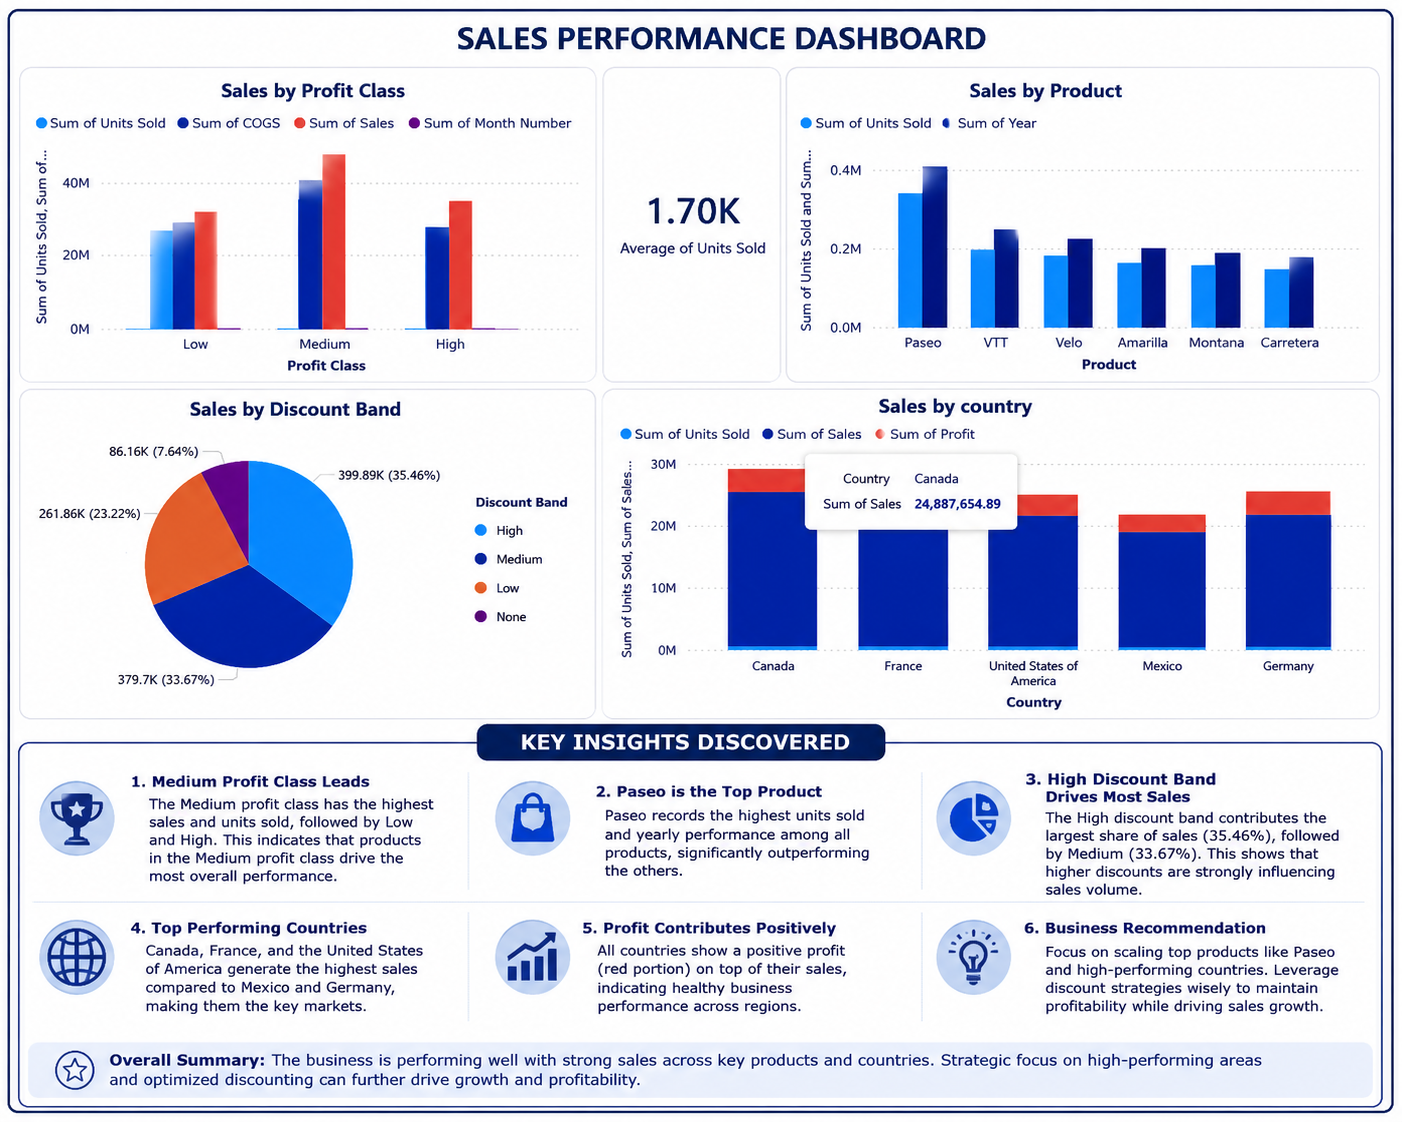

Layout of this report page (visuals, bound fields, positions):
{"tool":"powerbi","page":{"name":"Fanancial","canvas":[1280,720],"ordinal":0},"visuals":[{"type":"card","fields":{"Values":["Avg(financials.Units Sold)"]},"box":[557.7,147.9,134.8,144],"z":1000},{"type":"columnChart","title":"Sales by country","fields":{"Y":["Sum(financials.Units Sold)","Sum(financials. Sales)","Sum(financials.Profit)"],"Category":["financials.Country"]},"box":[586.5,360,662.4,345.6],"z":2000},{"type":"pieChart","title":"Sales by Discount Band","fields":{"Category":["financials.Discount Band"],"Y":["Sum(financials.Units Sold)"]},"box":[27.5,374.4,530.2,331.2],"z":3000},{"type":"clusteredColumnChart","title":" Sales by Profit Class","fields":{"Y":["Sum(financials.Units Sold)","Sum(financials.COGS)","Sum(financials. Sales)","Sum(financials.Month Number)"],"Category":["financials.Profit Class"]},"box":[38,79.9,484.4,276.2],"z":4000},{"type":"clusteredColumnChart","title":"Sales by Product","fields":{"Y":["Sum(financials.Units Sold)","Sum(financials.Year)"],"Category":["financials.Product"]},"box":[703,79.9,521,280.1],"z":5000},{"type":"textbox","box":[488.3,23.6,259.2,65.5],"z":6000}]}

Visuals, with their boxes on the page's 1280x720 design canvas (x1, y1, x2, y2). These are canvas units, not pixel positions in the 1402x1122 screenshot, which may show the page scaled, cropped or inside an application window:
card - Avg(financials.Units Sold): x1=558 y1=148 x2=692 y2=292
"Sales by country" columnChart: x1=586 y1=360 x2=1249 y2=706
"Sales by Discount Band" pieChart: x1=28 y1=374 x2=558 y2=706
" Sales by Profit Class" clusteredColumnChart: x1=38 y1=80 x2=522 y2=356
"Sales by Product" clusteredColumnChart: x1=703 y1=80 x2=1224 y2=360
textbox: x1=488 y1=24 x2=748 y2=89
